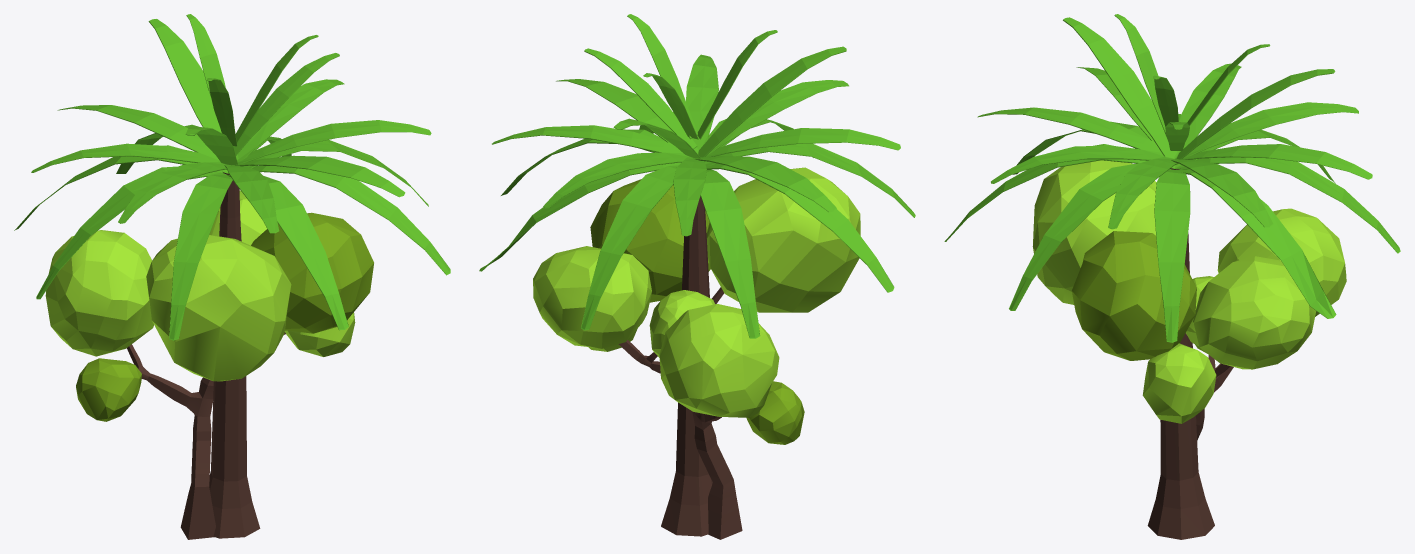
Rendered from Trees.fbx.
3 views of the same model, side by side, from view 1: azimuth 30°, elevation 25°; view 2: azimuth 150°, elevation 25°; view 3: azimuth 270°, elevation 25° (orthographic).
Visible parts, largest first — view 1: SM_Plant_Tree_T15_Color_Palette.001_0, SM_Plant_Tree_T2_Color_Palette.001_0; view 2: SM_Plant_Tree_T2_Color_Palette.001_0, SM_Plant_Tree_T15_Color_Palette.001_0; view 3: SM_Plant_Tree_T15_Color_Palette.001_0, SM_Plant_Tree_T2_Color_Palette.001_0.
Boxes of the visible parts, <box> form: SM_Plant_Tree_T15_Color_Palette.001_0: <box>14,14,450,538</box>; SM_Plant_Tree_T2_Color_Palette.001_0: <box>45,190,373,539</box>; SM_Plant_Tree_T2_Color_Palette.001_0: <box>533,167,860,539</box>; SM_Plant_Tree_T15_Color_Palette.001_0: <box>479,14,915,536</box>; SM_Plant_Tree_T15_Color_Palette.001_0: <box>944,14,1400,539</box>; SM_Plant_Tree_T2_Color_Palette.001_0: <box>1032,160,1346,440</box>.
Size of the model in its own units: 3.14 by 3.69 by 3.14.
